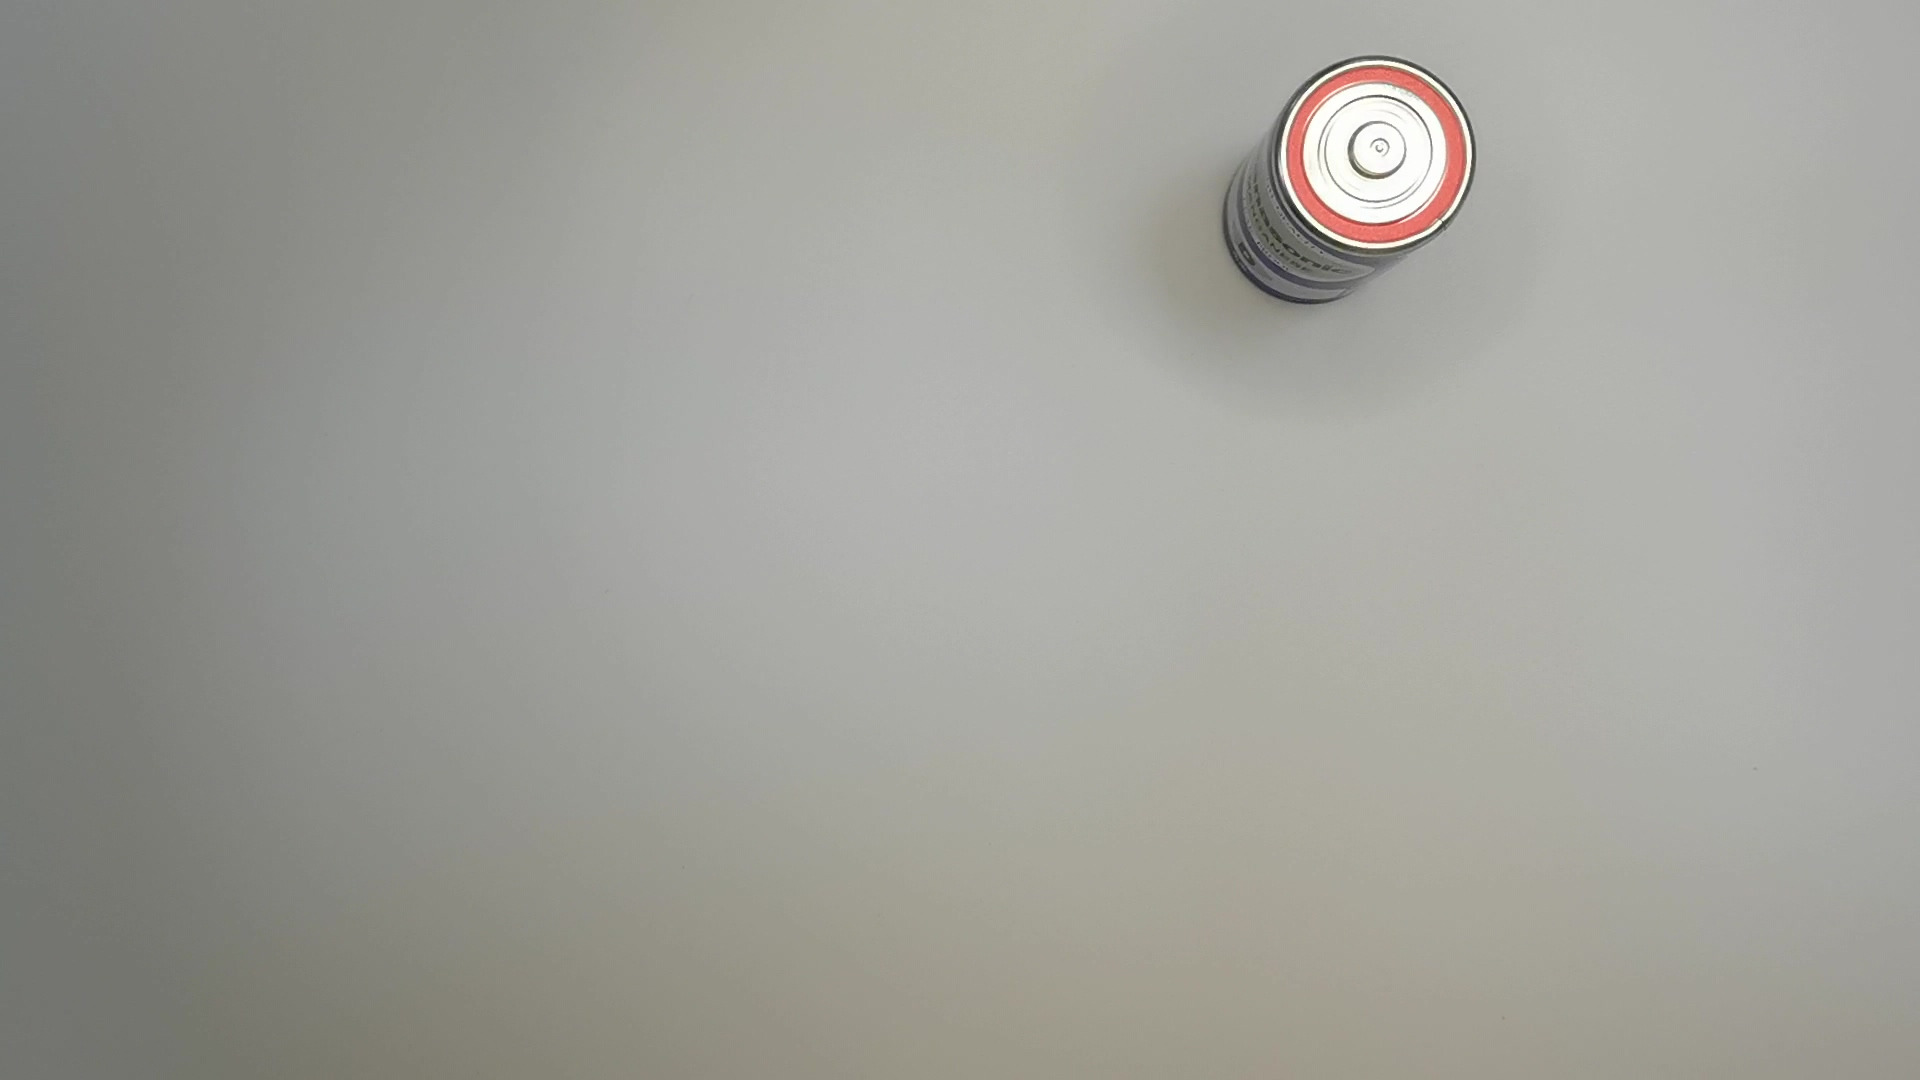battery: (1211, 51, 1481, 309)
